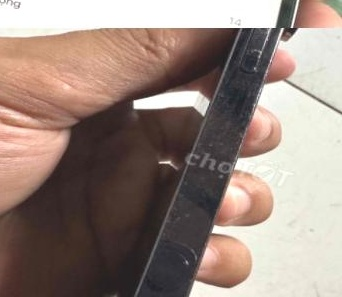scratch: (206, 28, 297, 118), (153, 189, 219, 267)
